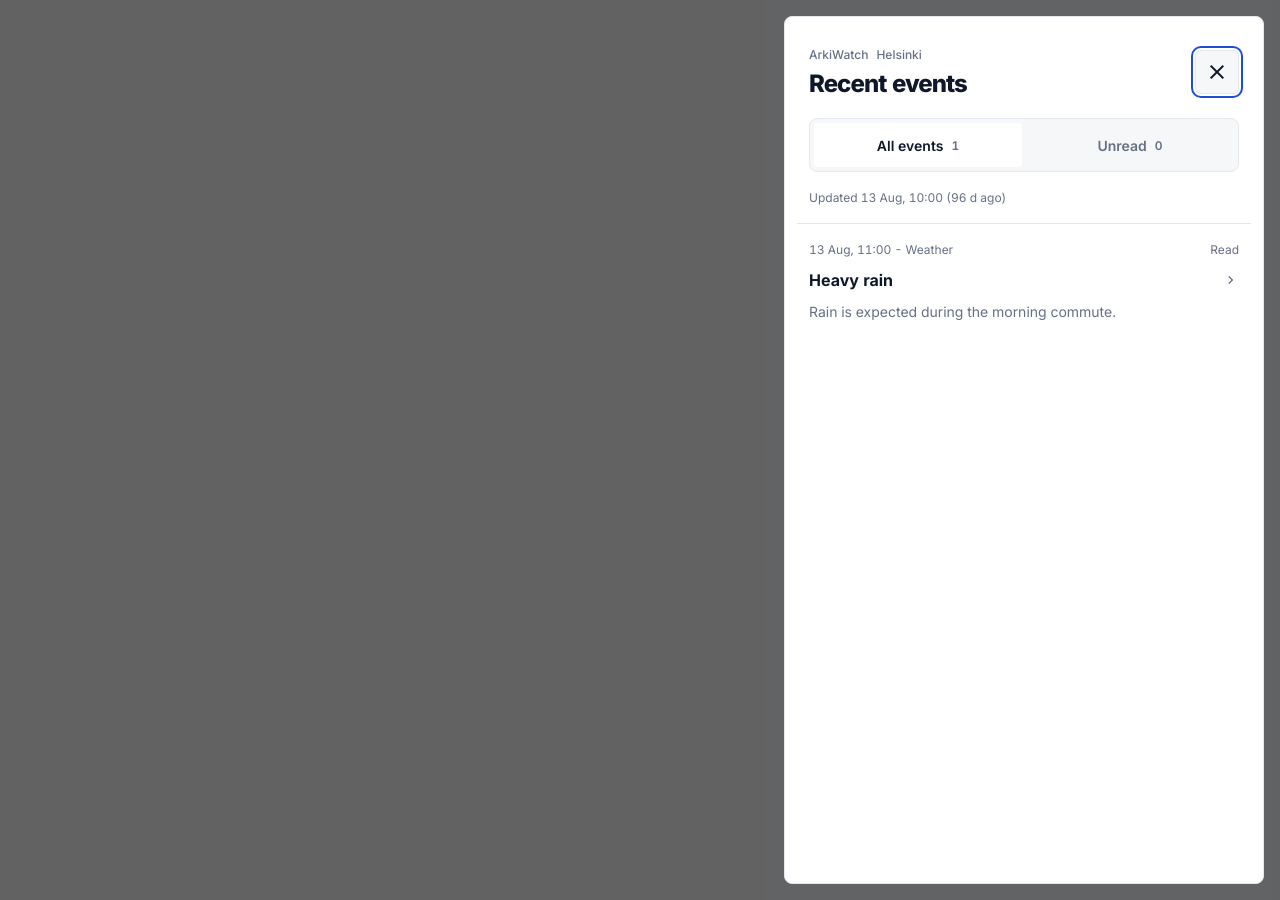
Test: RecentEventsPanel › filters read events with a useful empty state
What coordinates should you click on to do the following:
click the button "Unread 0"
I would click on:
 (1130, 145)
Its box is [1026, 123, 1234, 167].
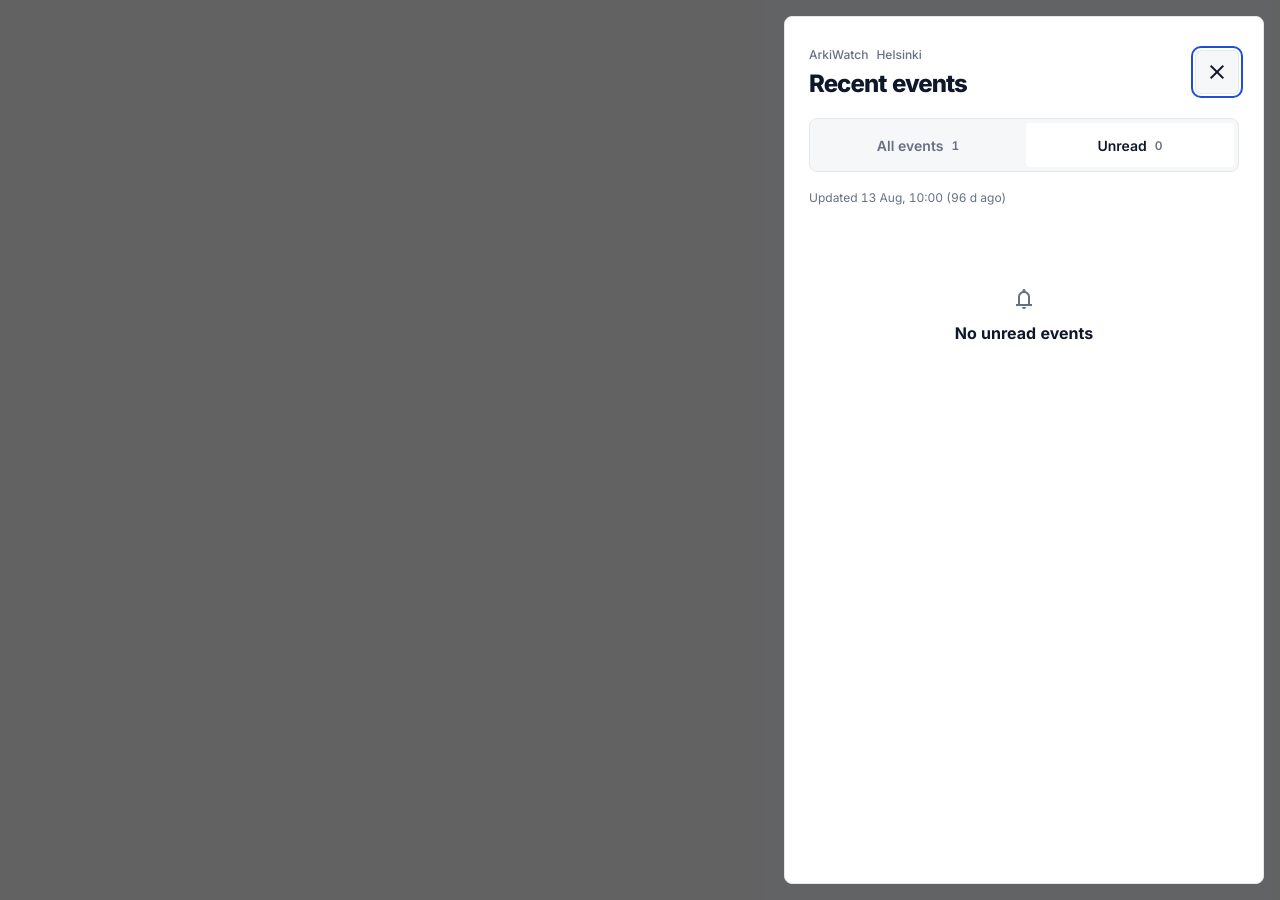
Now the message reads "No unread events", box [955, 323, 1093, 343]
What coordinates should you click on to do the following:
click the button "All events 1"
I would click on:
 (918, 145)
Its box is [814, 123, 1022, 167].
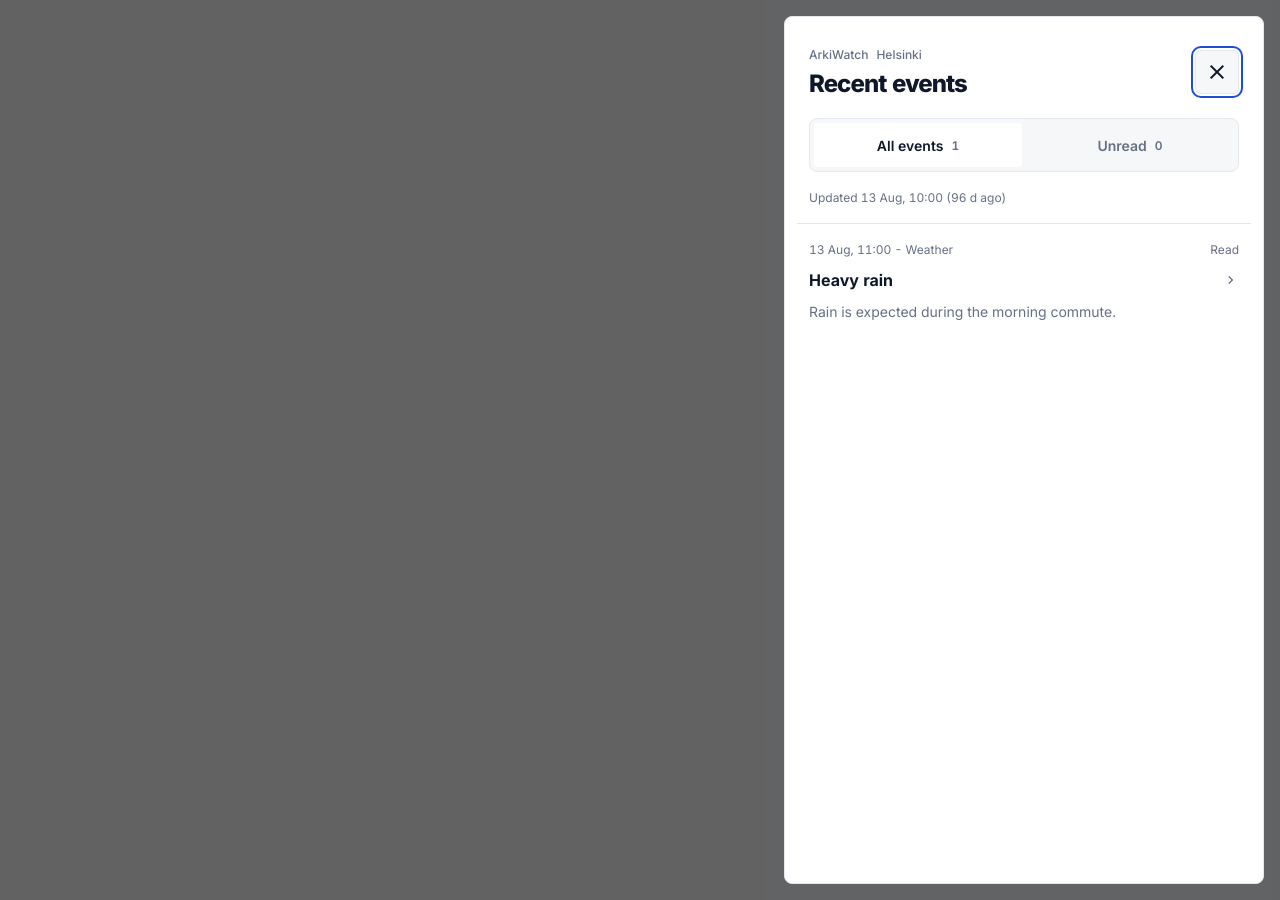
Now the button with aria-label "Open event detail" is shown, box [797, 224, 1251, 340]
